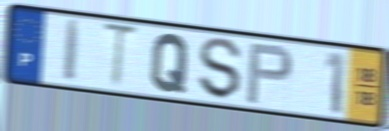1: (323, 51, 347, 116)
I: (61, 17, 84, 86)
P: (244, 41, 295, 107)
Q: (148, 31, 192, 96)
S: (197, 35, 244, 102)
T: (99, 20, 142, 93)
